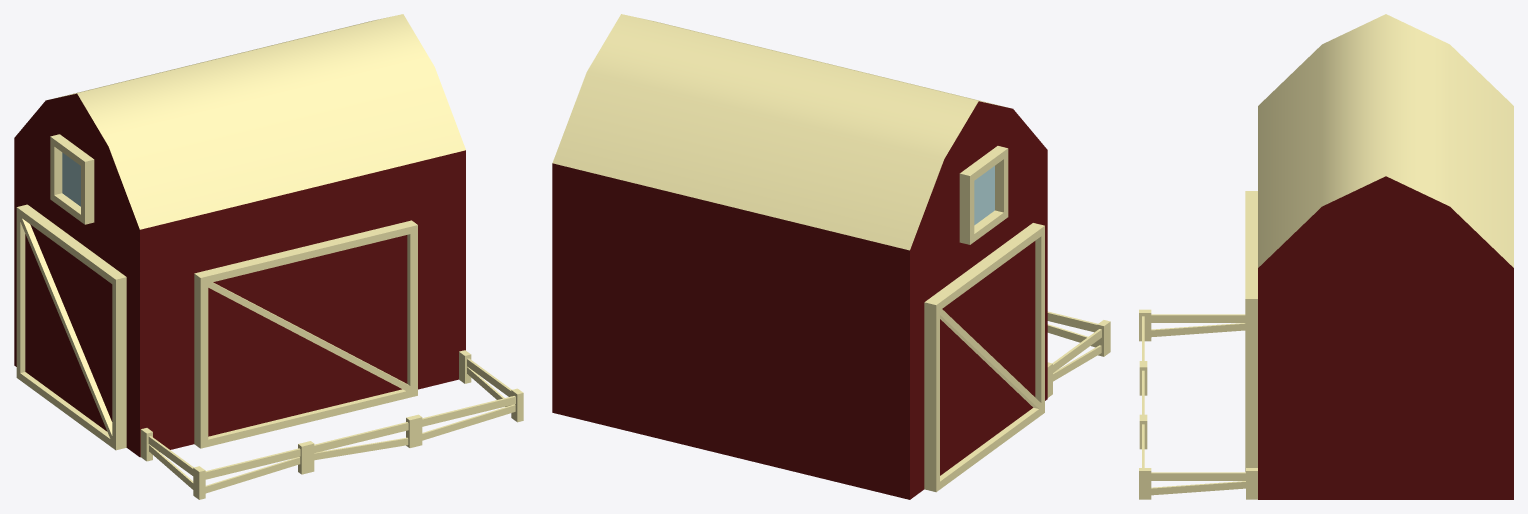
File: Barn.FBX
3 renders of one model, left to right at view 1: azimuth 30°, elevation 25°; view 2: azimuth 150°, elevation 25°; view 3: azimuth 270°, elevation 25°, orthographic. The views are drawn at different scales.
Visible parts, largest first — view 1: Barn; view 2: Barn; view 3: Barn.
Part boxes in pixels (x1=…): Barn: x1=14, y1=14, x2=523, y2=499; Barn: x1=552, y1=14, x2=1110, y2=499; Barn: x1=1139, y1=14, x2=1513, y2=499.
Bounding box in the file's own units: 31 × 27.93 × 29.31.
